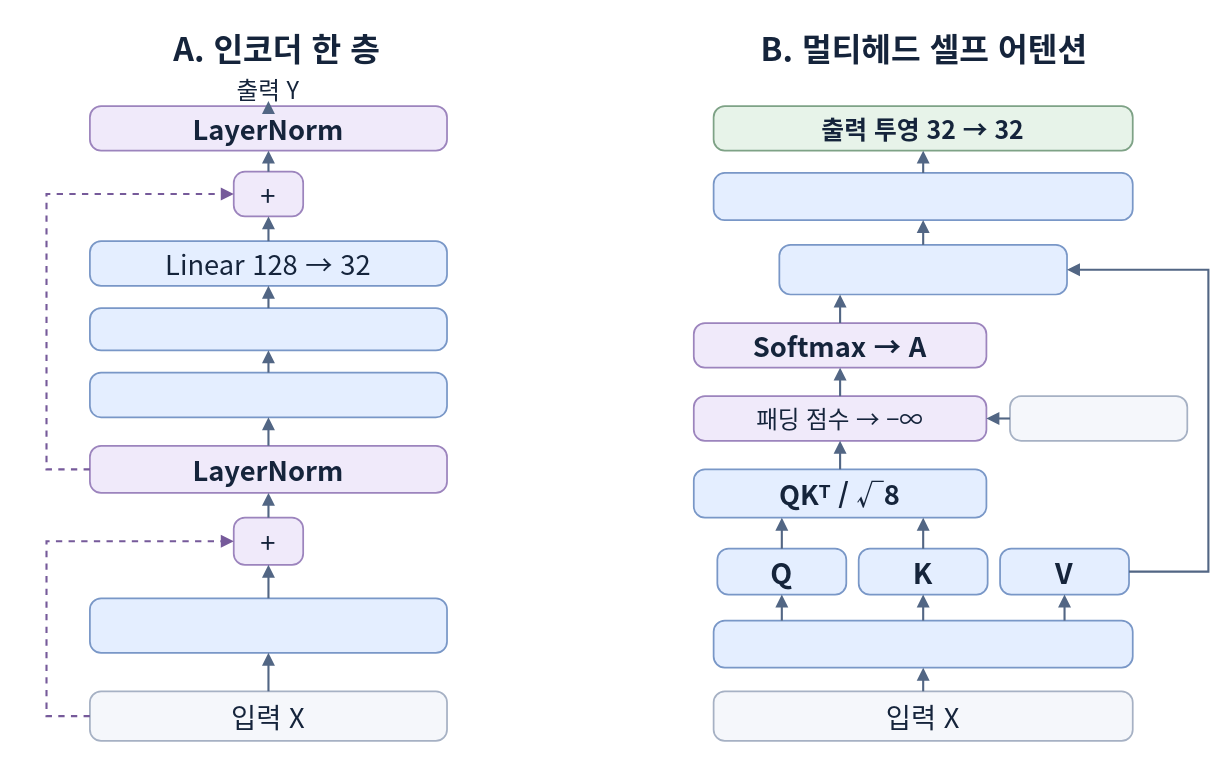
Some shapes in this 1229 by 761 pixel diagram are drawn without their labels. The centre of each missing label's shape, as x and y in pixels:
AV: [922,269]
GELU: [267,329]
Linear 32 → 128: [267,394]
QKV 통합 투영 32 → 96: [922,643]
멀티헤드 셀프 어텐션: [267,625]
키 패딩: [1098,418]
헤드 4개 연결: [922,195]
